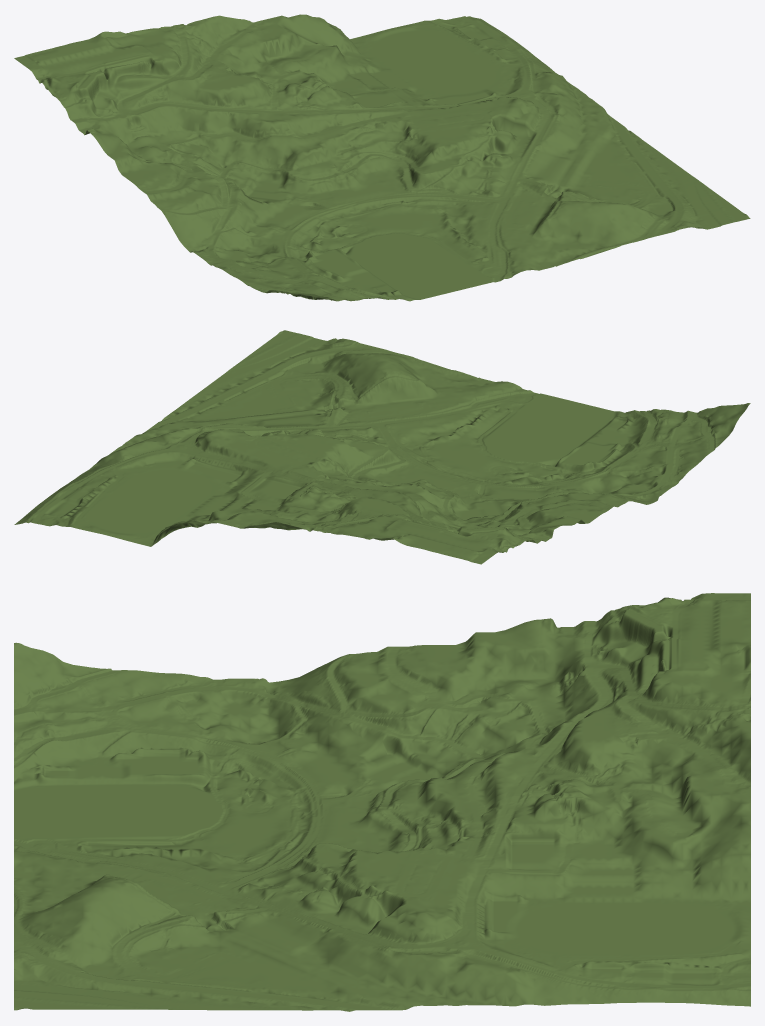
File: terrain_1_2.glb
3 views of the same model, one above another, from view 1: azimuth 30°, elevation 25°; view 2: azimuth 150°, elevation 25°; view 3: azimuth 270°, elevation 25° (orthographic). The views are drawn at different scales.
Parts seen in each view (by area): view 1: terrain_1_2; view 2: terrain_1_2; view 3: terrain_1_2.
Part boxes in pixels (x1=…): terrain_1_2: x1=14, y1=14, x2=750, y2=301; terrain_1_2: x1=14, y1=330, x2=750, y2=564; terrain_1_2: x1=14, y1=593, x2=750, y2=1011.
Bounding box in the file's own units: 600 × 104 × 600.
